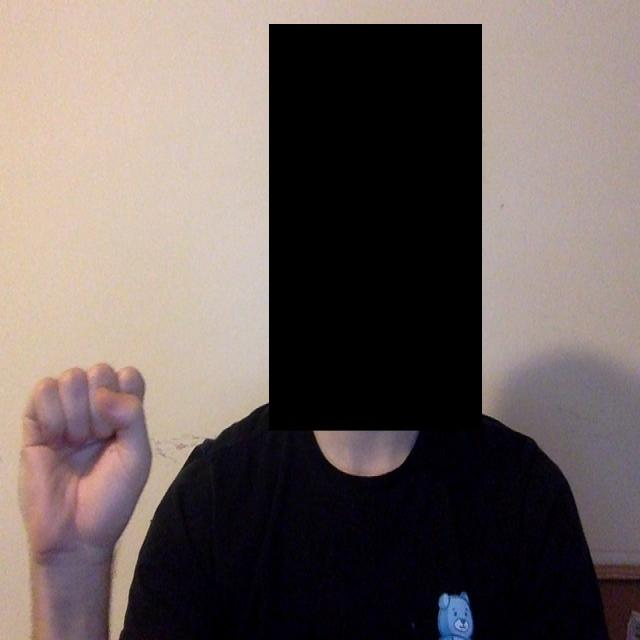S: (11, 343, 172, 587)
